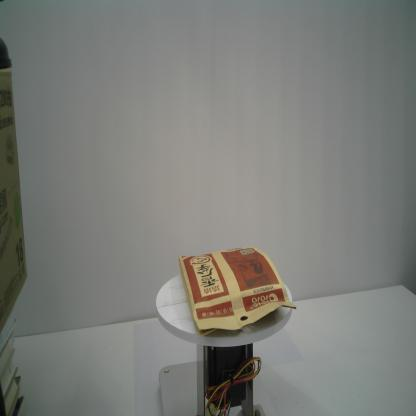Dried Food: (178, 245, 297, 337)
